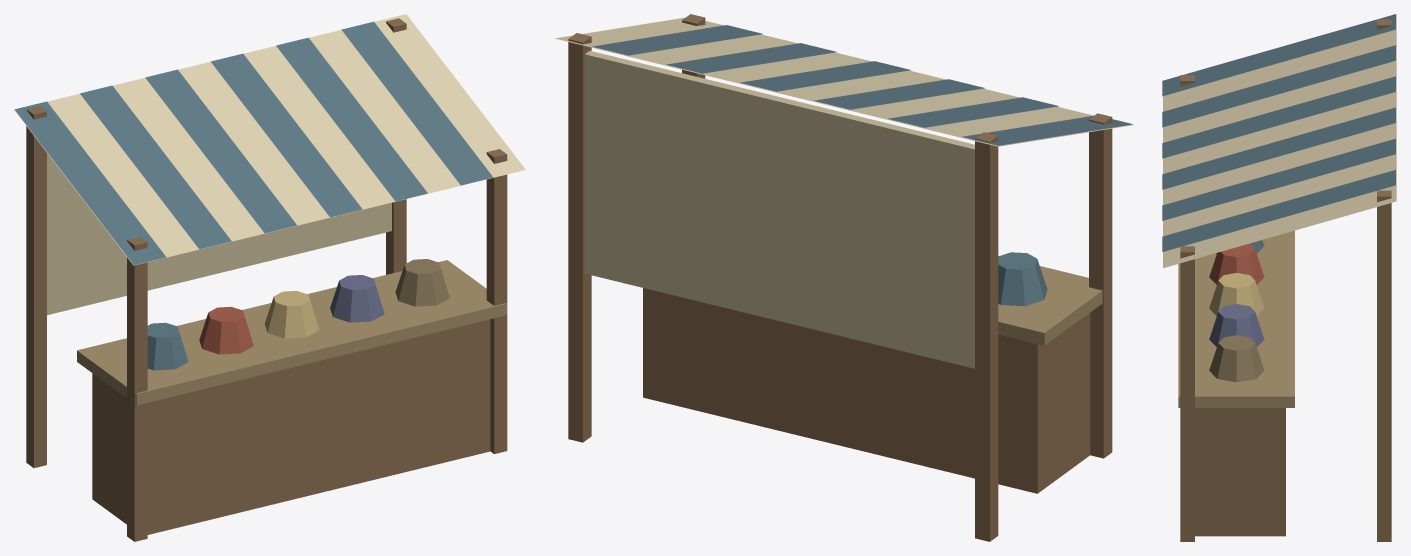
Rendered from capital-stall-cloth.glb.
The picture shows the model from 3 angles, left to right: view 1: azimuth 30°, elevation 25°; view 2: azimuth 150°, elevation 25°; view 3: azimuth 270°, elevation 25°; orthographic projection. The views are drawn at different scales.
Parts seen in each view (by area): view 1: Building; view 2: Building; view 3: Building.
Boxes of the visible parts, <box> form: Building: <box>14,14,525,541</box>; Building: <box>554,14,1132,541</box>; Building: <box>1162,14,1396,541</box>.
Size of the model in its own units: 72 by 62.1 by 38.1.
